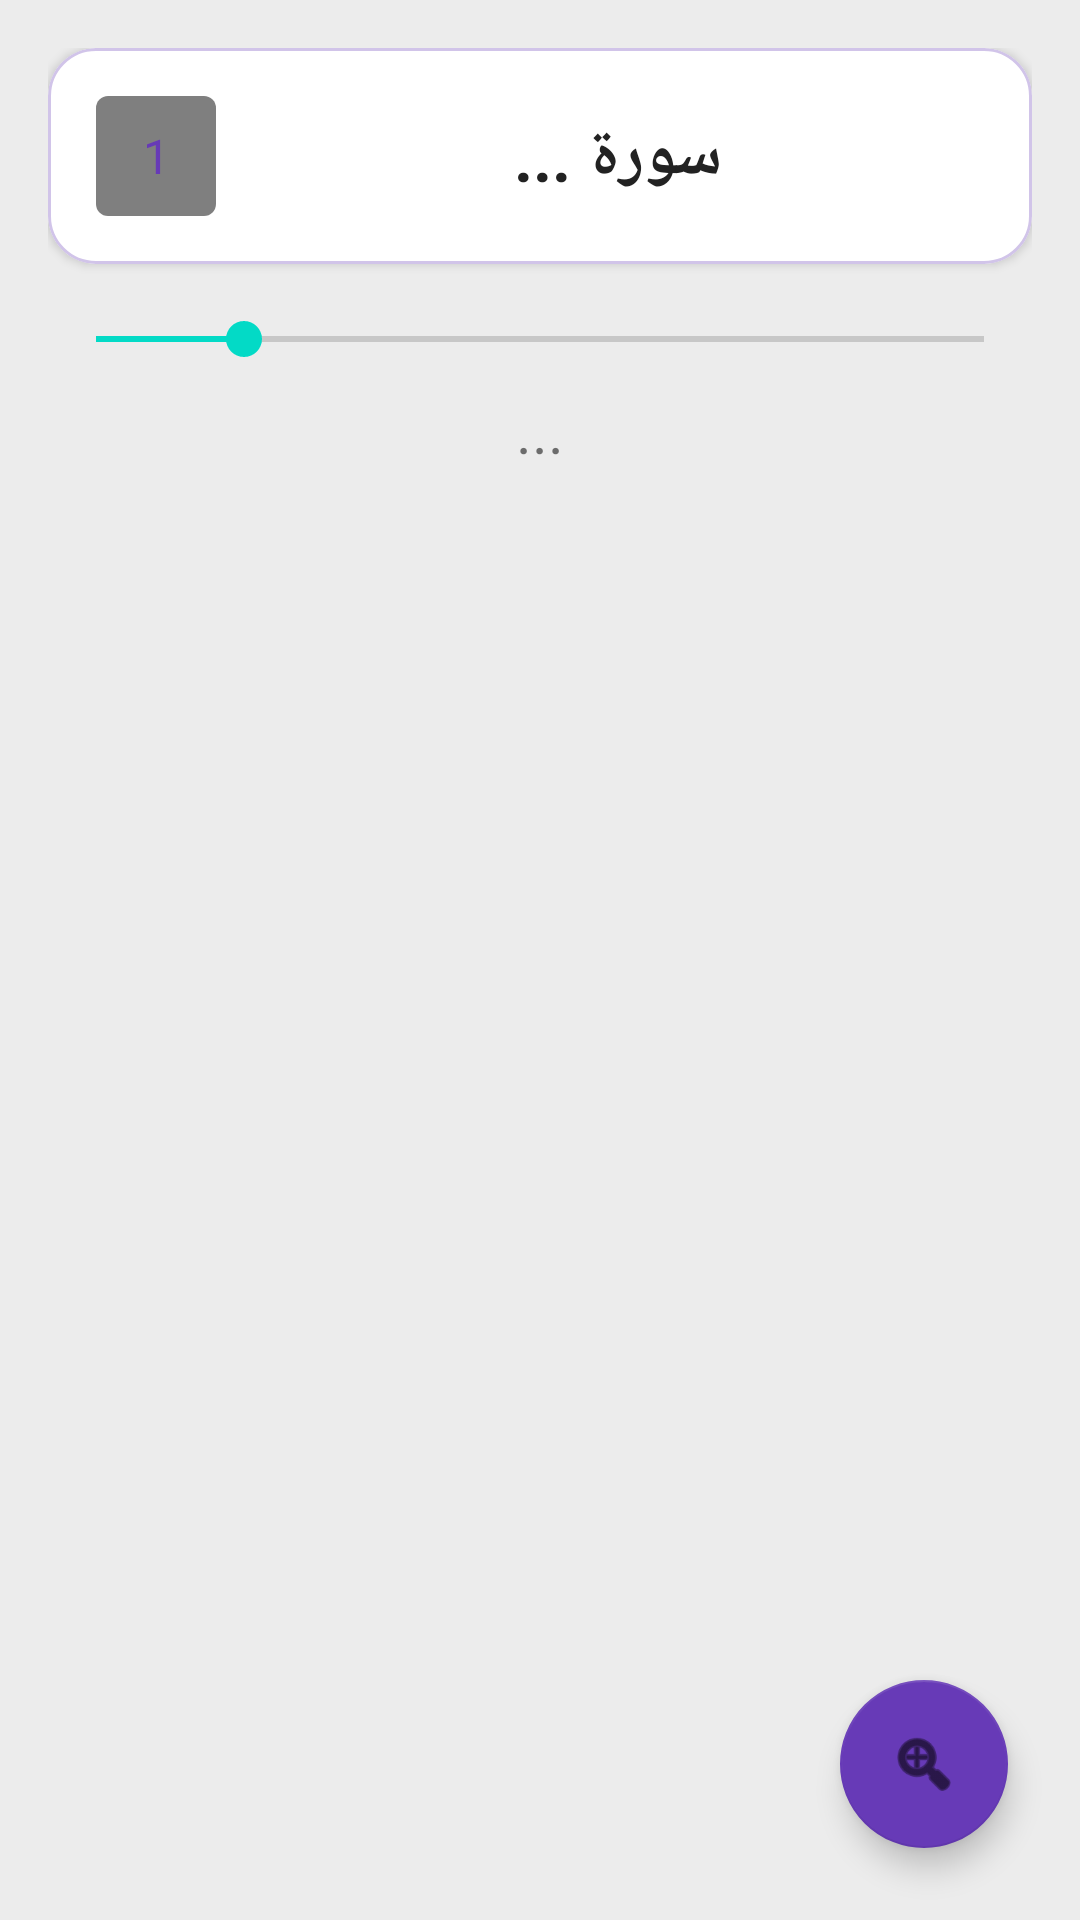

Named icons in this screenshot (1080x1920) and their centers, point (x, y):
zoom: point (924, 1764)
